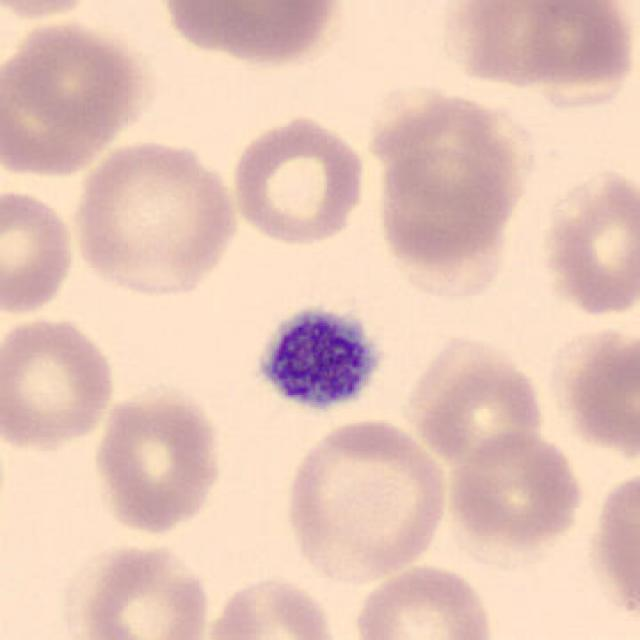Platelets: (245, 298, 388, 420)
RBC: (368, 88, 532, 273), (279, 414, 452, 587), (68, 136, 242, 301), (0, 14, 158, 180), (89, 382, 226, 540), (226, 109, 370, 249), (442, 427, 586, 562), (436, 0, 634, 97), (406, 340, 550, 469), (0, 310, 119, 455), (534, 162, 638, 323), (60, 537, 216, 640), (547, 319, 640, 469), (151, 0, 349, 69), (348, 560, 499, 640), (0, 185, 78, 317), (199, 571, 347, 640), (583, 460, 638, 631), (0, 0, 108, 21)
